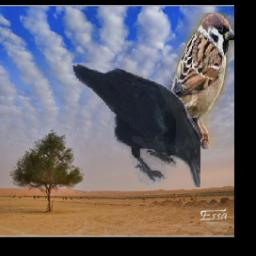Crow: (71, 64, 201, 188)
Sparrow: (150, 14, 234, 150)
